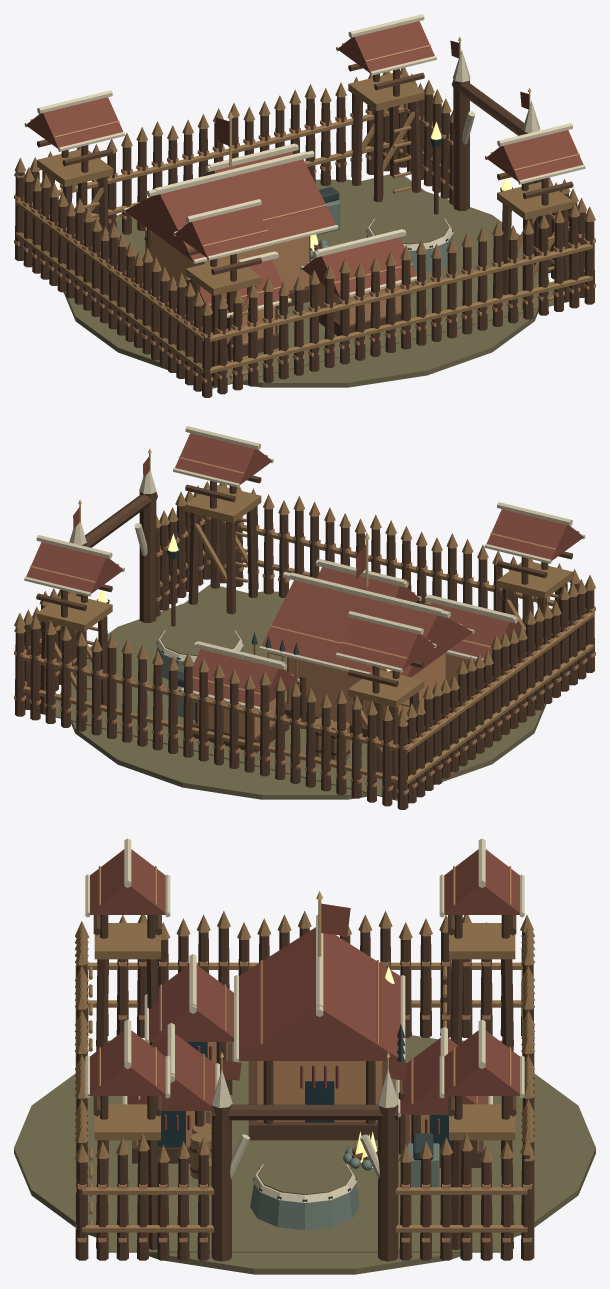
Rendered from fortified-warcamp-v2.glb.
3 renders of one model, top to bottom at view 1: azimuth 30°, elevation 25°; view 2: azimuth 150°, elevation 25°; view 3: azimuth 270°, elevation 25°, orthographic. The views are drawn at different scales.
Visible parts, largest first — view 1: fortified-warcamp-v2 Dark timber beams.001, fortified-warcamp-v2 Warm cut timber.001, fortified-warcamp-v2 Red ochre hide.001, fortified-warcamp-v2 Packed camp earth.001, fortified-warcamp-v2 Hide seams.001, fortified-warcamp-v2 Weathered tusk ivory.001, fortified-warcamp-v2 Weathered foundation.001; view 2: fortified-warcamp-v2 Dark timber beams.001, fortified-warcamp-v2 Red ochre hide.001, fortified-warcamp-v2 Warm cut timber.001, fortified-warcamp-v2 Packed camp earth.001, fortified-warcamp-v2 Hide seams.001, fortified-warcamp-v2 Weathered tusk ivory.001, fortified-warcamp-v2 Weathered foundation.001; view 3: fortified-warcamp-v2 Dark timber beams.001, fortified-warcamp-v2 Red ochre hide.001, fortified-warcamp-v2 Packed camp earth.001, fortified-warcamp-v2 Warm cut timber.001, fortified-warcamp-v2 Weathered tusk ivory.001, fortified-warcamp-v2 Hide seams.001, fortified-warcamp-v2 Weathered foundation.001, fortified-warcamp-v2 Deep window recess.001, fortified-warcamp-v2 Black forged iron.001.
Part boxes in pixels (x1,y1,x2,y2): fortified-warcamp-v2 Dark timber beams.001: (14,63,594,397); fortified-warcamp-v2 Warm cut timber.001: (14,67,595,378); fortified-warcamp-v2 Red ochre hide.001: (26,21,583,313); fortified-warcamp-v2 Packed camp earth.001: (63,172,569,388); fortified-warcamp-v2 Hide seams.001: (14,42,595,382); fortified-warcamp-v2 Weathered tusk ivory.001: (24,14,585,317); fortified-warcamp-v2 Weathered foundation.001: (310,200,453,273); fortified-warcamp-v2 Dark timber beams.001: (15,475,594,809); fortified-warcamp-v2 Red ochre hide.001: (26,433,583,706); fortified-warcamp-v2 Warm cut timber.001: (14,481,595,784); fortified-warcamp-v2 Packed camp earth.001: (40,584,546,800); fortified-warcamp-v2 Hide seams.001: (14,454,595,794); fortified-warcamp-v2 Weathered tusk ivory.001: (24,426,585,710); fortified-warcamp-v2 Weathered foundation.001: (156,647,243,719); fortified-warcamp-v2 Dark timber beams.001: (75,915,534,1261); fortified-warcamp-v2 Red ochre hide.001: (88,849,521,1134); fortified-warcamp-v2 Packed camp earth.001: (14,1035,595,1274); fortified-warcamp-v2 Warm cut timber.001: (75,911,534,1232); fortified-warcamp-v2 Weathered tusk ivory.001: (85,838,524,1202); fortified-warcamp-v2 Hide seams.001: (77,866,532,1242); fortified-warcamp-v2 Weathered foundation.001: (250,1143,439,1230); fortified-warcamp-v2 Deep window recess.001: (158,1042,451,1150); fortified-warcamp-v2 Black forged iron.001: (253,1024,433,1203).
Size of the model in its own units: 8.96 by 3.85 by 9.1.
